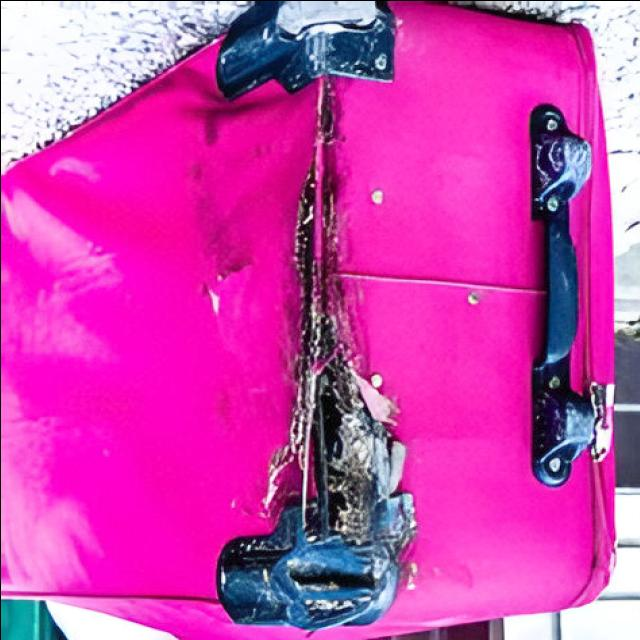Damage-bag: (201, 0, 415, 630), (205, 232, 250, 320)
